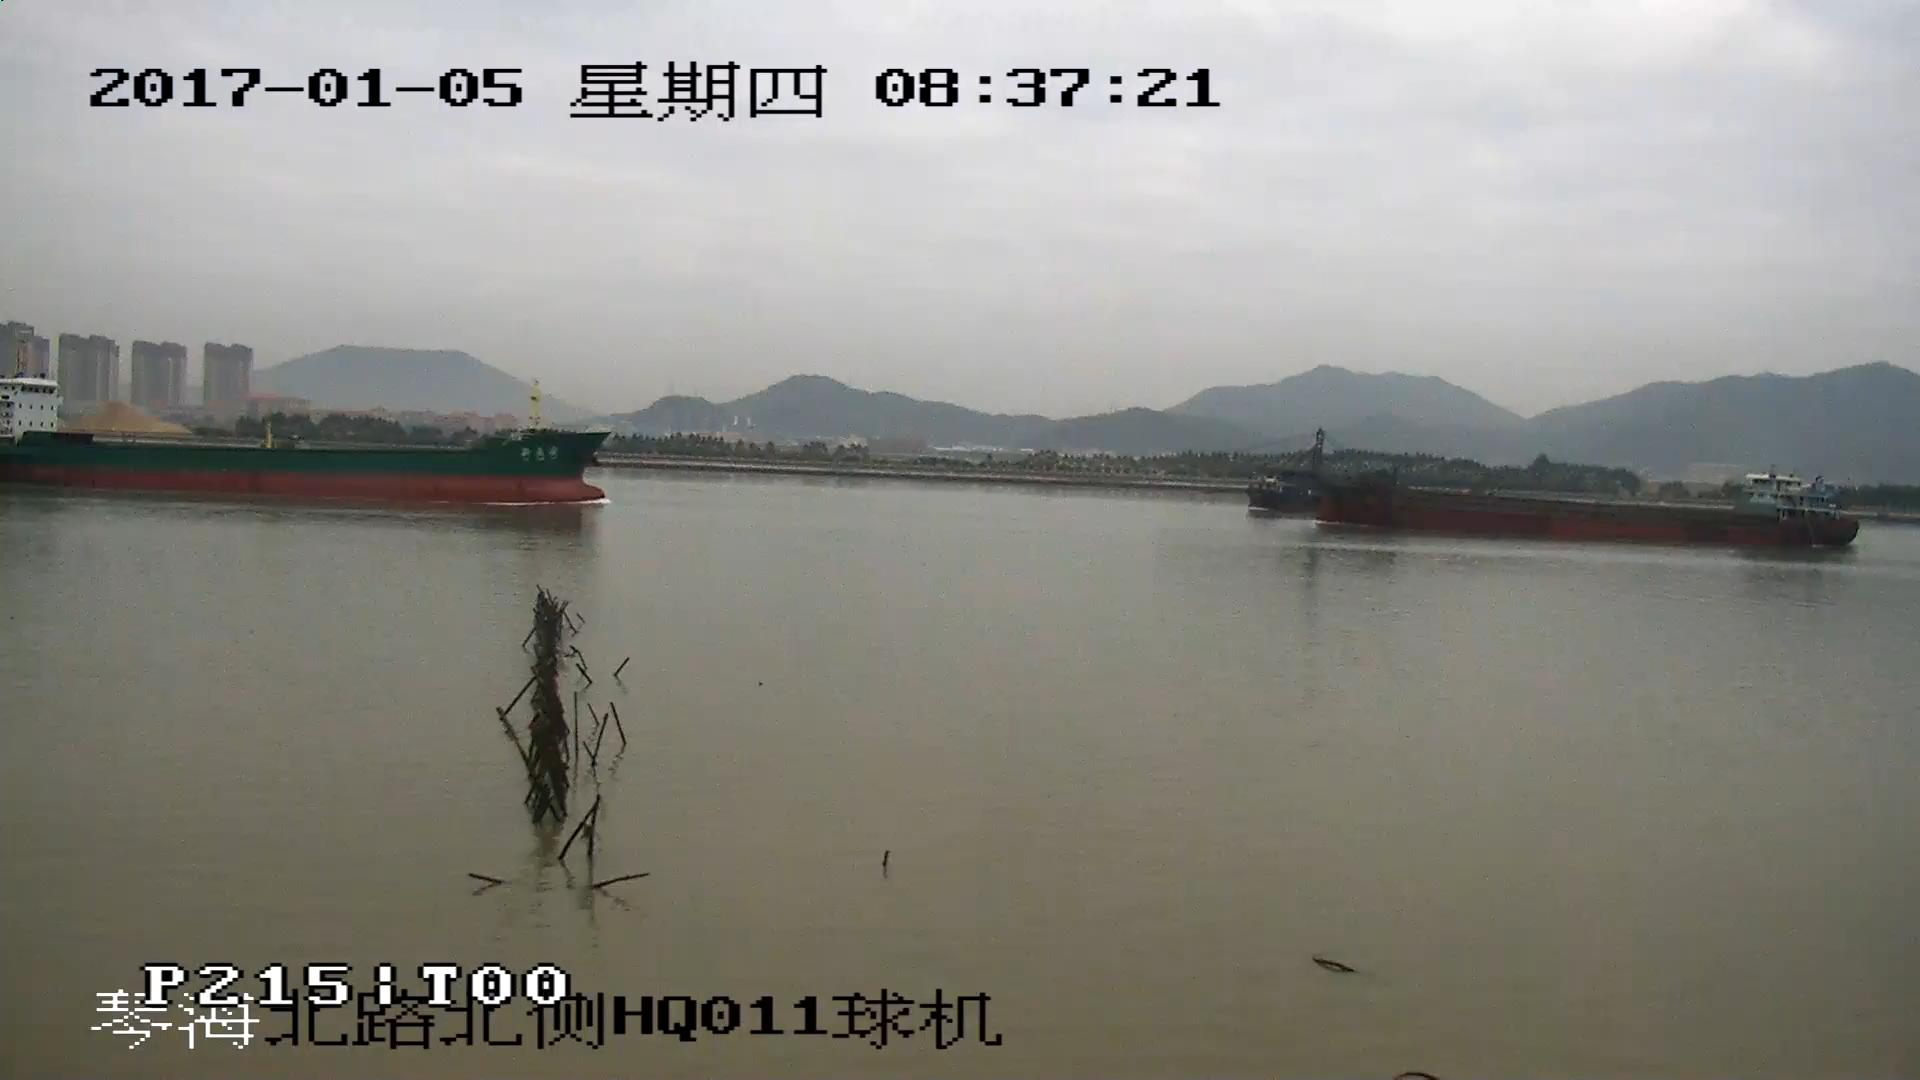bulk cargo carrier: (1251, 437, 1859, 553)
general cargo ship: (1, 334, 606, 504)
